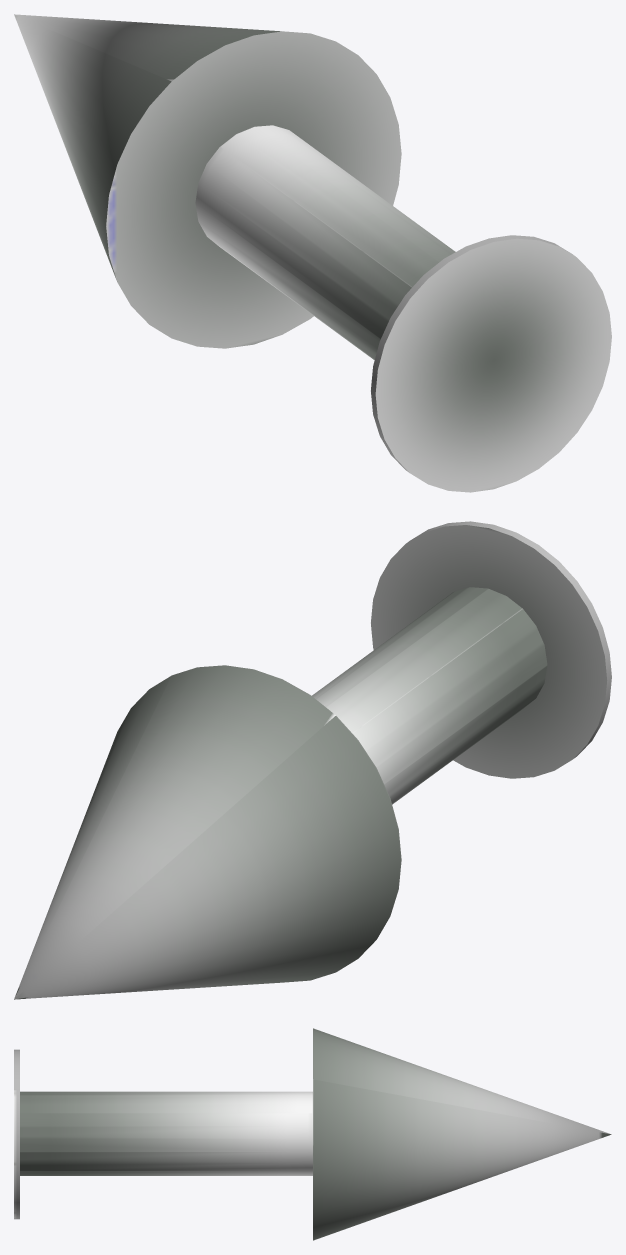
Rendered from arrow.obj.
3 views of the same model, one above another, from view 1: azimuth 30°, elevation 25°; view 2: azimuth 150°, elevation 25°; view 3: azimuth 270°, elevation 25° (orthographic). The views are drawn at different scales.
Parts seen in each view (by area): view 1: arrow_model; view 2: arrow_model; view 3: arrow_model.
Boxes of the visible parts, x1,y1,x2,y2 form: arrow_model: [14, 14, 611, 492]; arrow_model: [14, 521, 611, 999]; arrow_model: [14, 1028, 611, 1240].
Size of the model in its own units: 0.3556 by 0.3556 by 1.
1 material, 1 textured.
